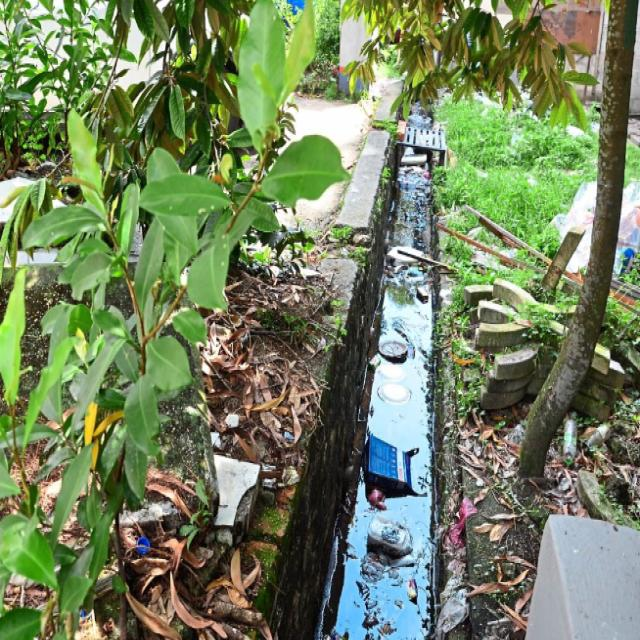Breeding Place: (240, 139, 486, 640)
